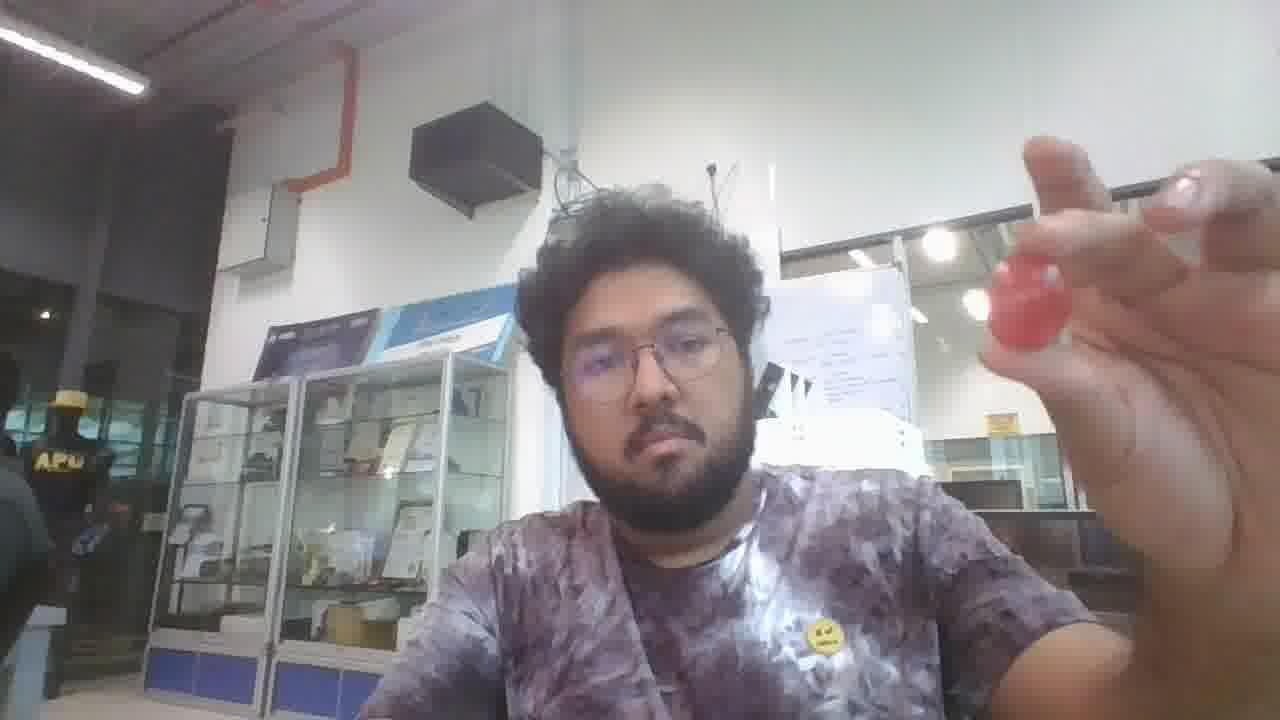red_cherry_tomato: (988, 254, 1070, 351)
